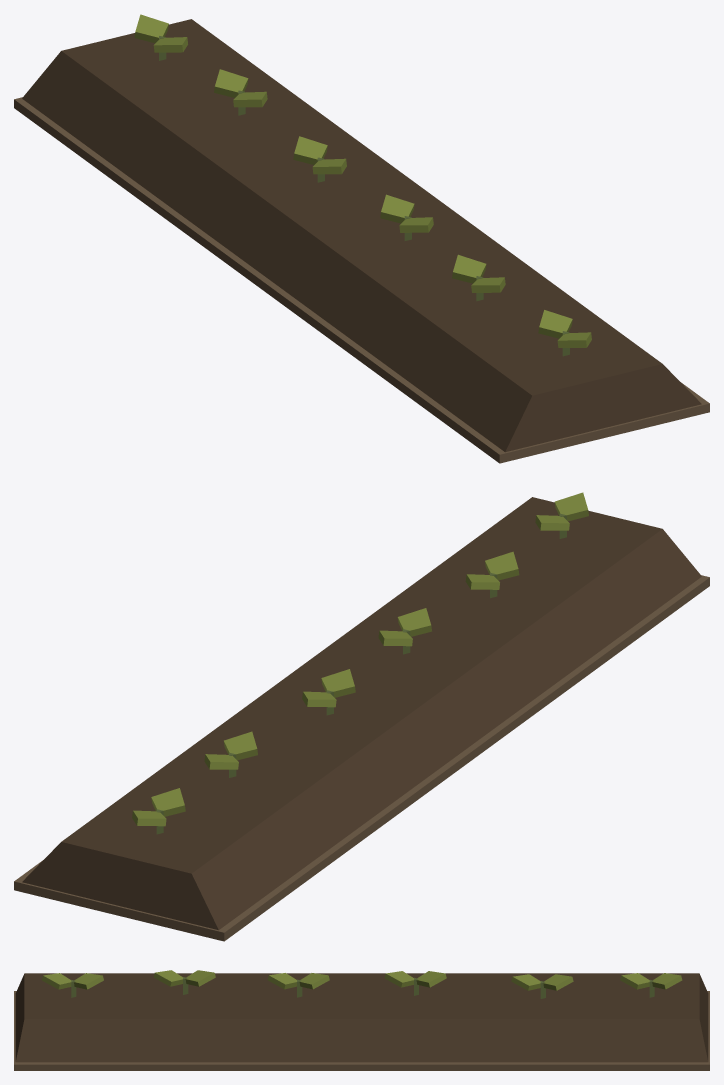
Rendered from crop_beans_s1.glb.
3 views of the same model, one above another, from view 1: azimuth 30°, elevation 25°; view 2: azimuth 150°, elevation 25°; view 3: azimuth 270°, elevation 25° (orthographic). The views are drawn at different scales.
Visible parts, largest first — view 1: crop_beans_s1_mesh; view 2: crop_beans_s1_mesh; view 3: crop_beans_s1_mesh.
Boxes of the visible parts, <box> form: crop_beans_s1_mesh: <box>14,14,709,463</box>; crop_beans_s1_mesh: <box>14,492,709,941</box>; crop_beans_s1_mesh: <box>14,970,709,1070</box>.
Bounding box in the file's own units: 0.5 × 0.1873 × 2.
